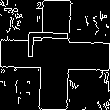L_E: (29, 38, 81, 72)
